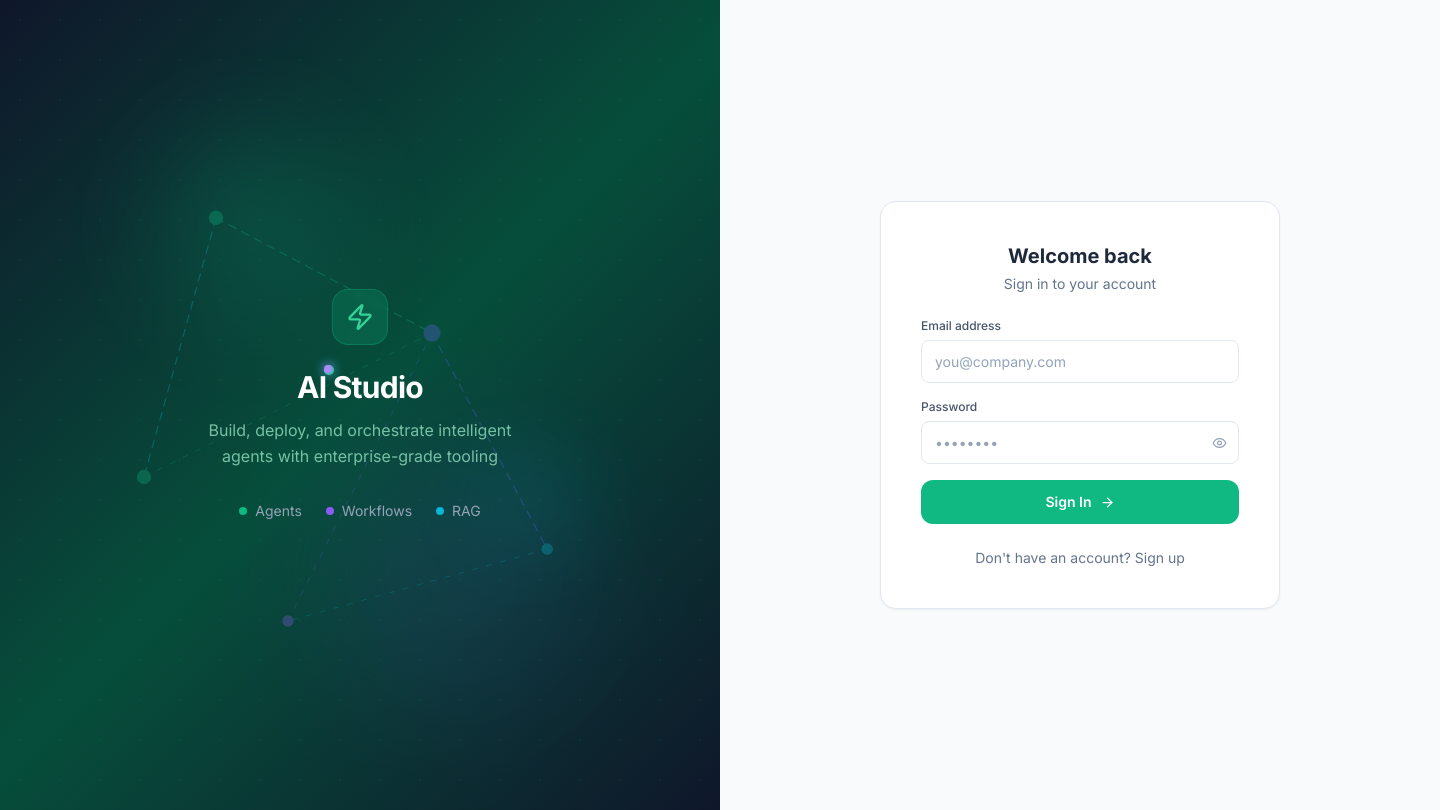
Test: LoginPage › disables sign in button while loading
In the field with placeholder "you@company.com": (1080, 362) left=921, top=340, right=1239, bottom=383, type "test@test.com"
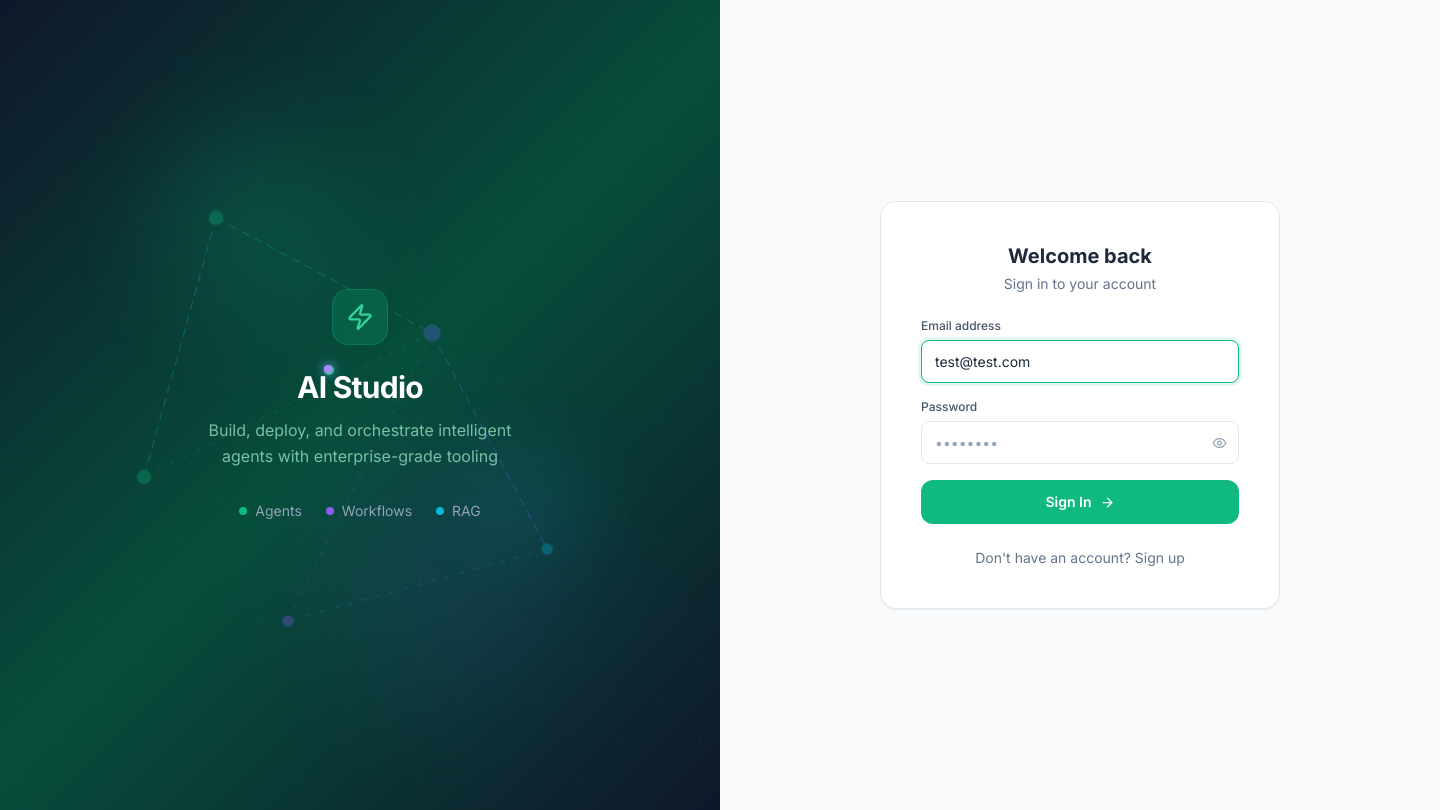
In the password field with placeholder "••••••••": (1080, 442) left=921, top=421, right=1239, bottom=464, type "pass"
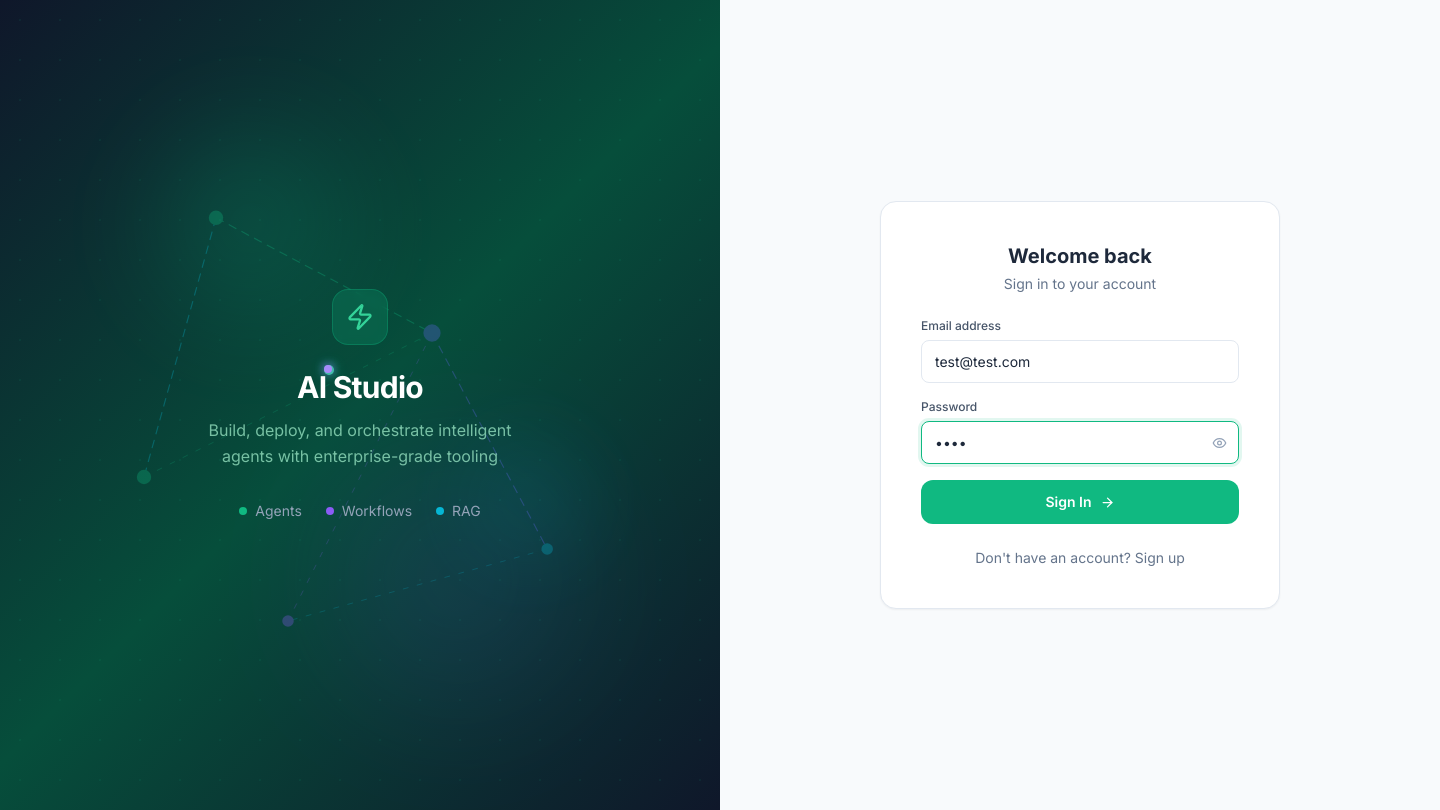
Click the button "Sign In": click(1080, 502) left=921, top=480, right=1239, bottom=524
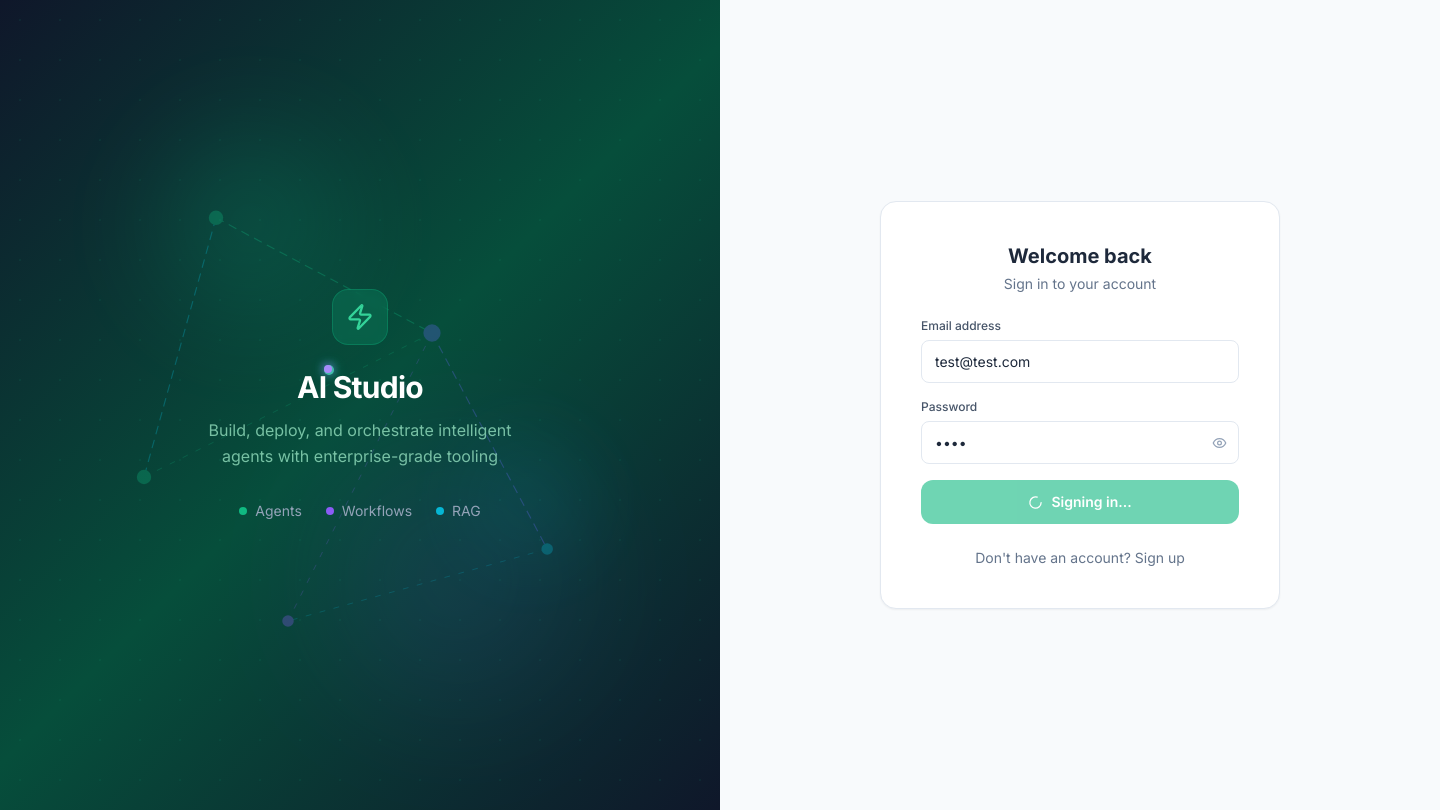
expect the button "Signing in..." is shown: met, box left=921, top=480, right=1239, bottom=524
